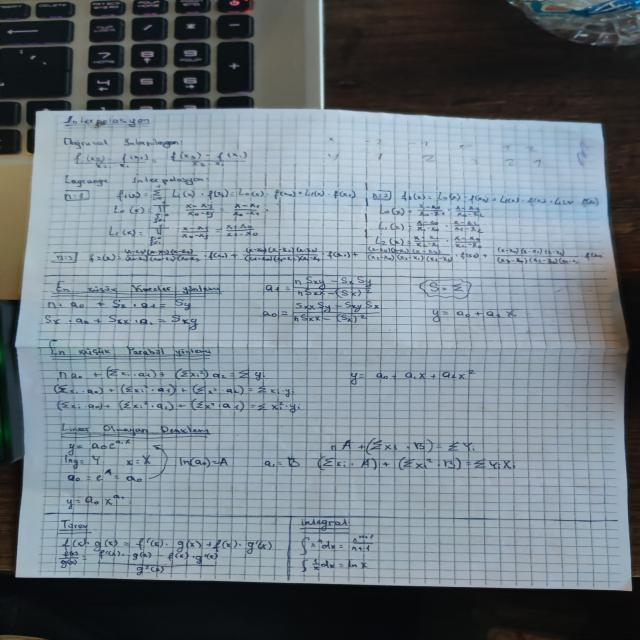math: (80, 247, 606, 266), (54, 536, 278, 576), (63, 438, 234, 484), (365, 187, 603, 220), (114, 185, 358, 217), (313, 439, 519, 471), (40, 298, 200, 330), (105, 216, 265, 245), (53, 397, 304, 414), (50, 382, 299, 398), (67, 149, 253, 170), (52, 365, 268, 383), (294, 533, 380, 574), (372, 220, 486, 250), (259, 299, 386, 324), (256, 275, 372, 298), (344, 369, 478, 386), (425, 306, 520, 322), (64, 494, 128, 509), (260, 454, 304, 472), (426, 282, 469, 296)
text: (46, 338, 215, 359), (50, 279, 225, 297), (59, 421, 212, 436), (59, 173, 208, 185), (63, 136, 184, 148), (58, 115, 154, 129), (296, 518, 349, 532), (60, 519, 89, 530)
